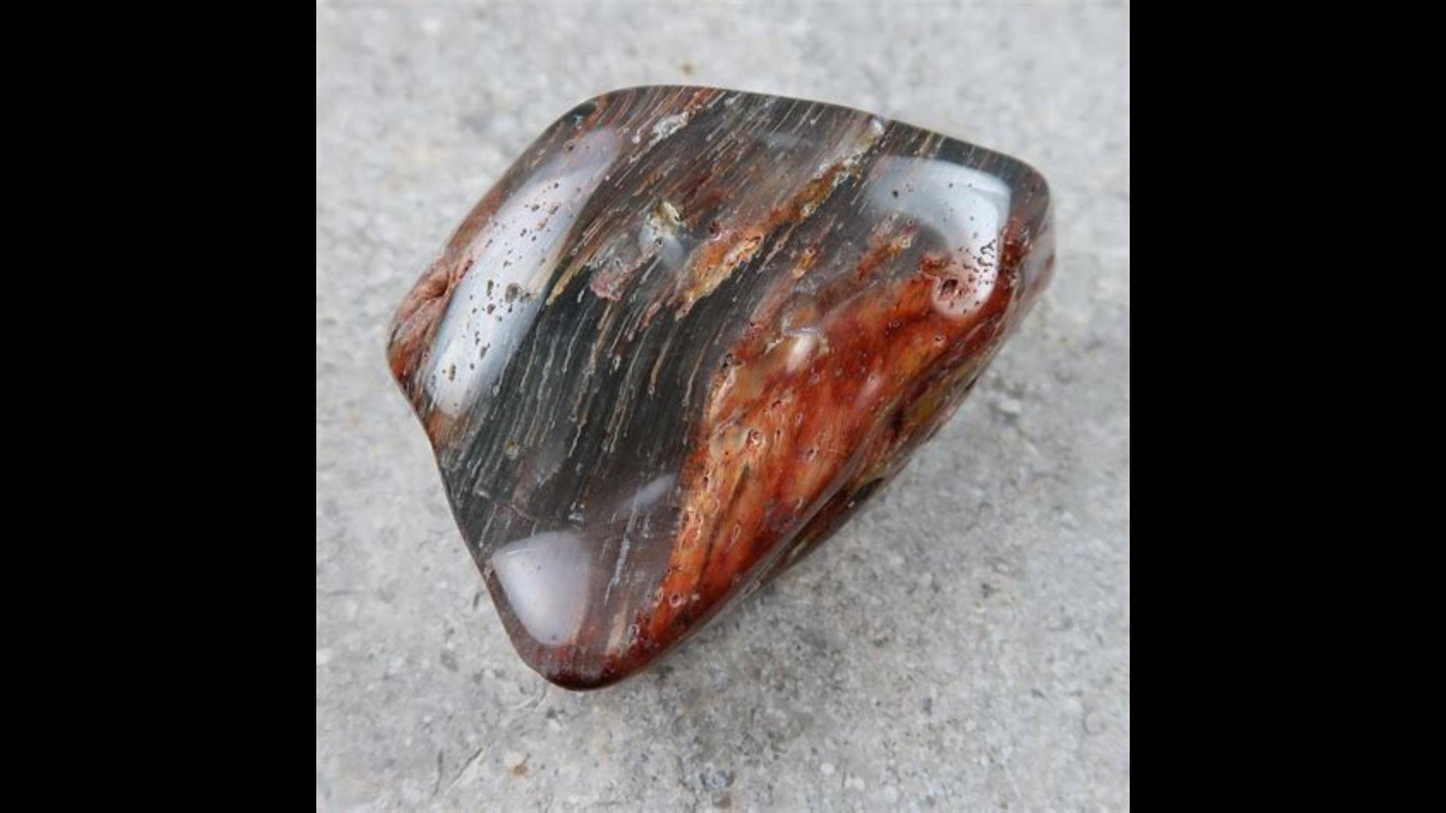rock: (387, 86, 1051, 688)
